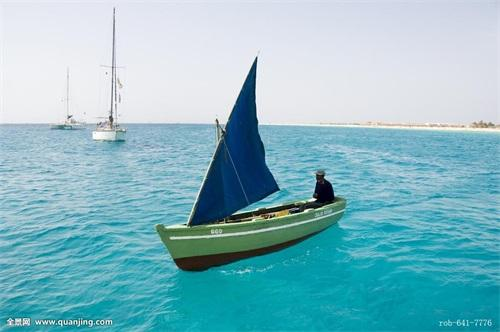Ship: (156, 53, 348, 274), (93, 4, 128, 143), (51, 67, 87, 131)
